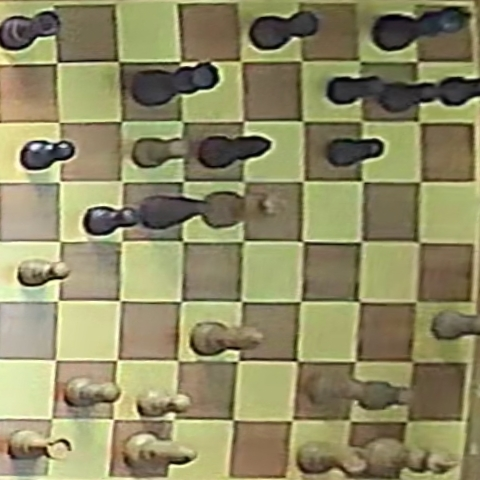black-bishop: (198, 135, 272, 169)
black-king: (374, 6, 469, 52)
black-knight: (139, 194, 211, 231)
black-pawn: (378, 81, 440, 112), (328, 75, 390, 105), (84, 205, 140, 236), (21, 139, 74, 170), (327, 138, 383, 167), (432, 76, 478, 107)
black-queen: (131, 63, 218, 107)
black-rook: (251, 10, 319, 51), (1, 10, 61, 51)
white-bishop: (123, 432, 197, 470), (191, 321, 262, 355)
white-king: (358, 438, 455, 475)
white-pawn: (305, 371, 368, 405), (133, 137, 190, 168), (351, 380, 408, 409), (66, 377, 119, 407), (18, 258, 71, 287), (137, 389, 191, 417), (432, 310, 479, 340)
white-queen: (203, 191, 287, 226)
white-rook: (298, 439, 369, 475), (8, 430, 72, 460)
